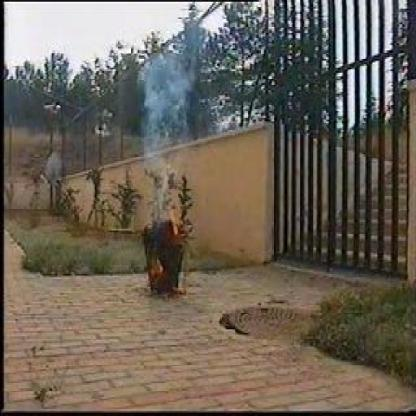-: (138, 43, 184, 177)
foggia-v2-map80-epoch100 - v1 4323: (166, 198, 184, 235)
